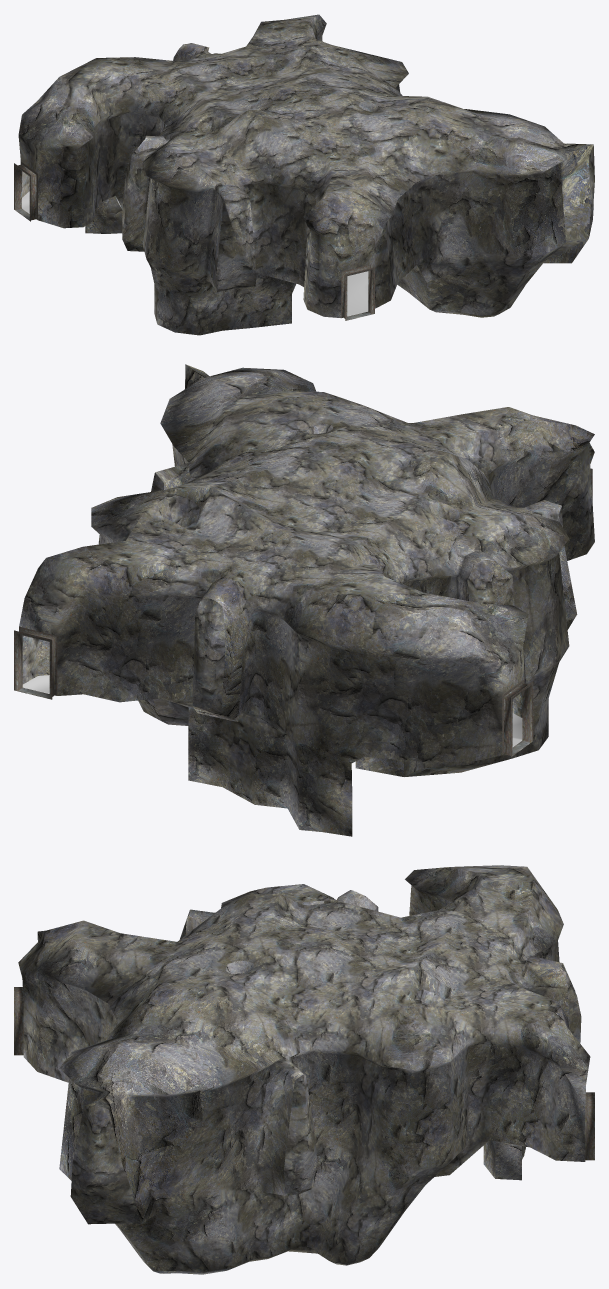
Rendered from RockyTunnel4.FBX.
The picture shows the model from 3 angles, top to bottom: view 1: azimuth 30°, elevation 25°; view 2: azimuth 150°, elevation 25°; view 3: azimuth 270°, elevation 25°; orthographic projection. The views are drawn at different scales.
Visible parts, largest first — view 1: Object99; view 2: Object99; view 3: Object99.
Boxes of the visible parts, left/top/right/bottom form: Object99: left=14, top=14, right=594, bottom=335; Object99: left=14, top=364, right=594, bottom=836; Object99: left=14, top=865, right=594, bottom=1274.
Size of the model in its own units: 3507 by 1776 by 3500.
